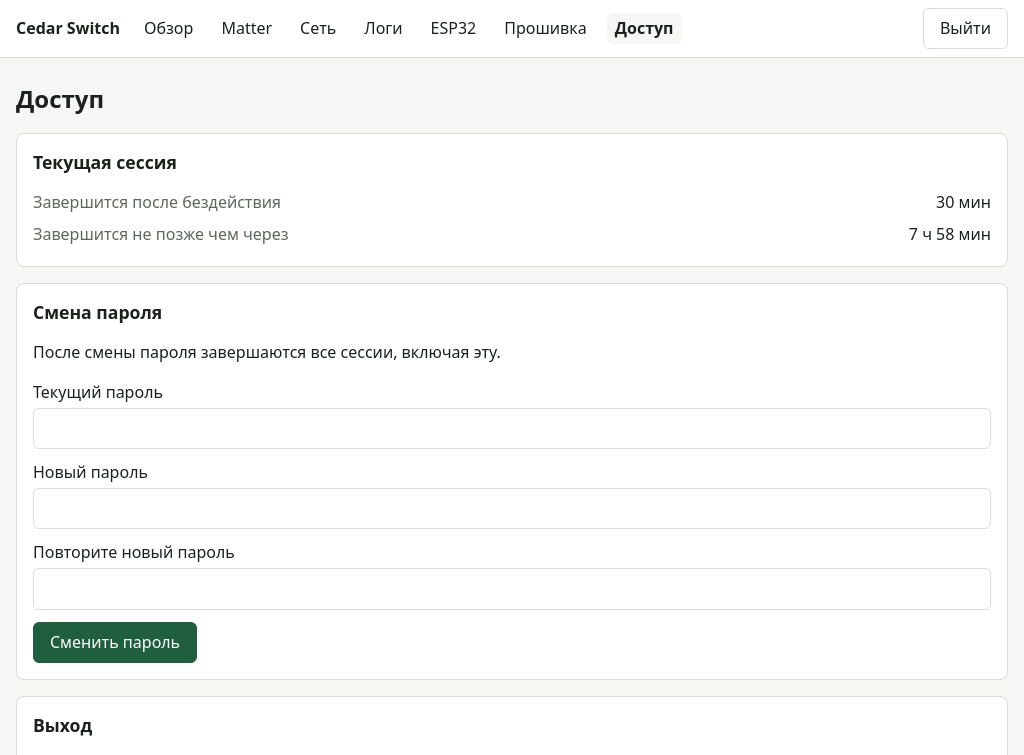
access › changes the password through its job and asks to sign in again
Type "the old password" into the password field labelled "Текущий пароль".
click(512, 428); type("the old password")  # box [33,408,991,449]
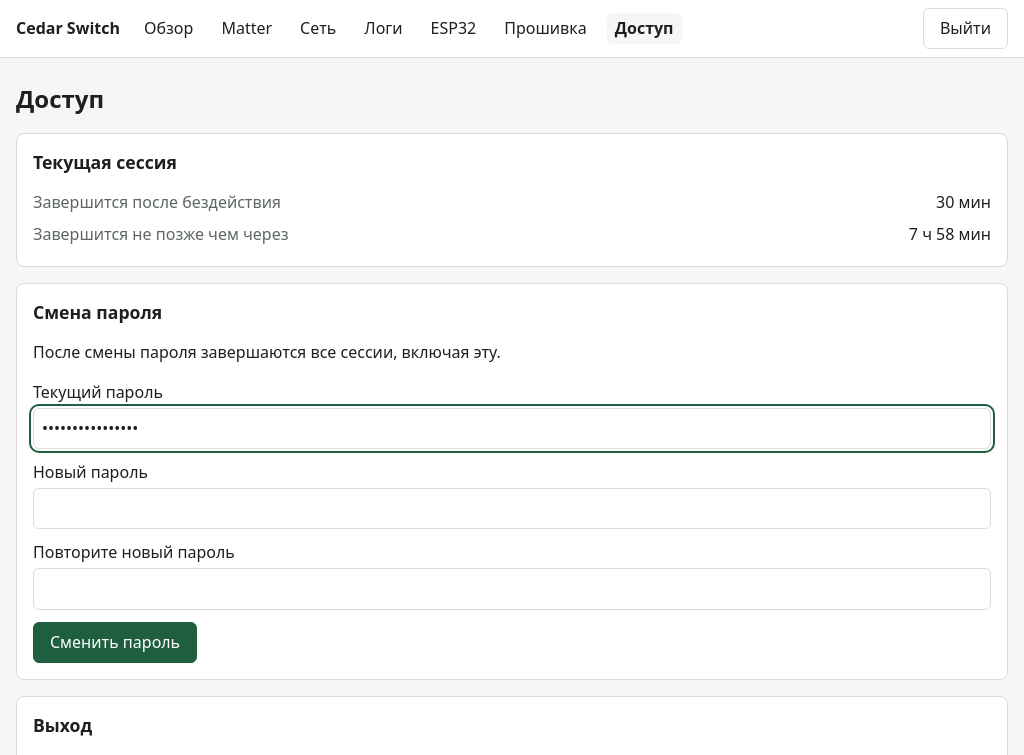
Type "a brand new password" into the password field labelled "Новый пароль".
click(512, 509); type("a brand new password")  # box [33,488,991,529]
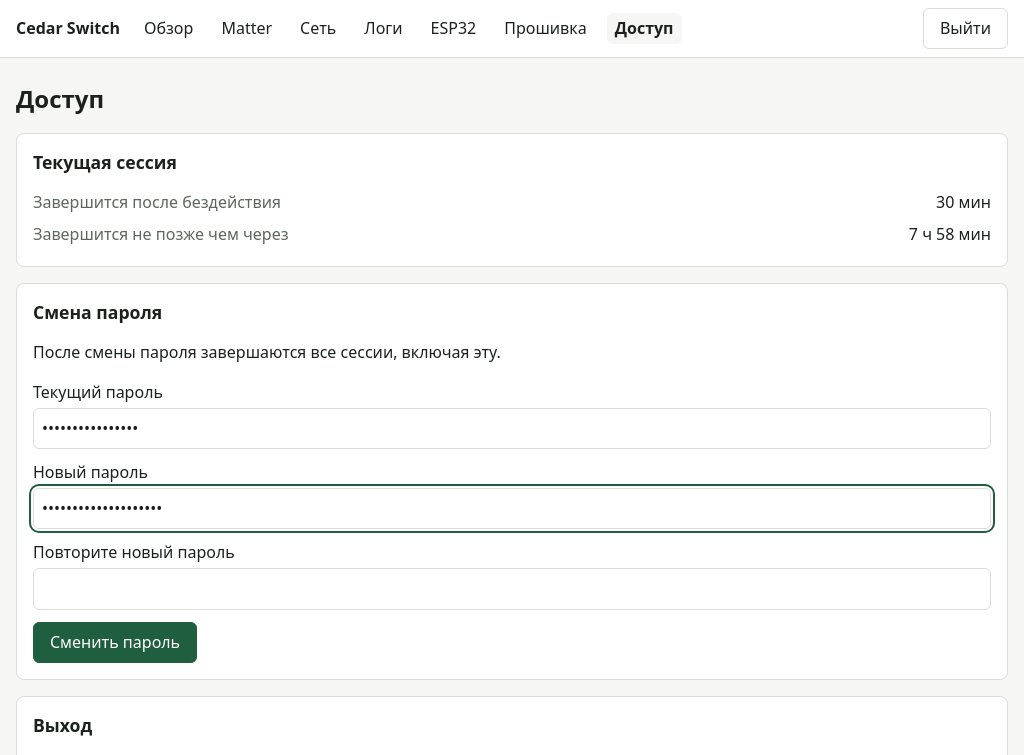
Type "a brand new password" into the password field labelled "Повторите новый пароль".
click(512, 589); type("a brand new password")  # box [33,568,991,610]
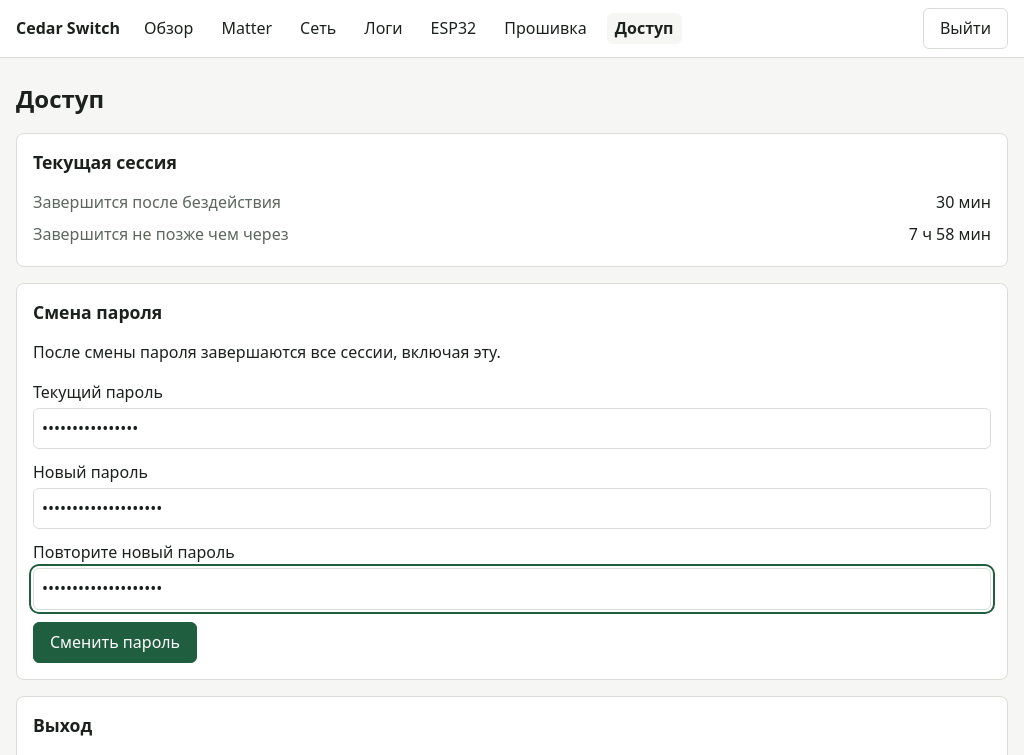
Click the button "Сменить пароль".
click(115, 642)  # box [33,622,197,663]
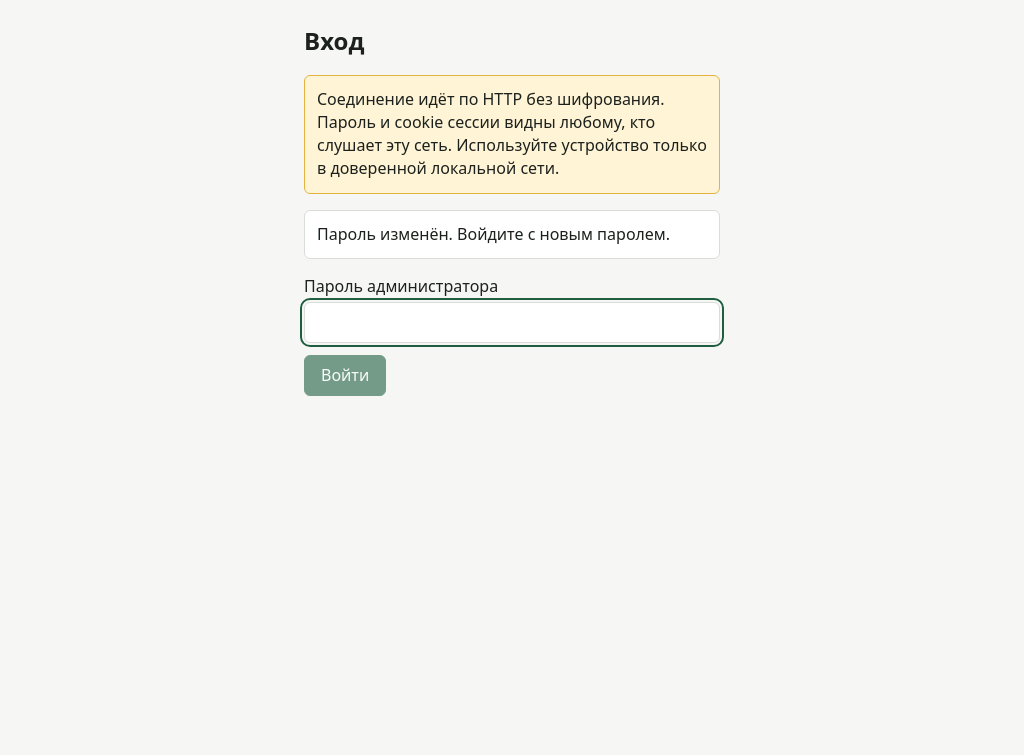
Result: the text "Пароль изменён. Войдите с новым паролем." is shown at [304,210,720,259]
